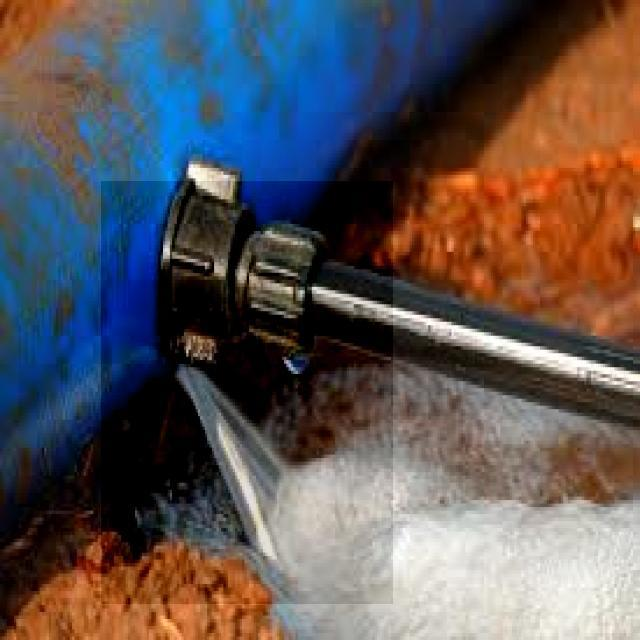corrosion: (110, 310, 267, 472)
